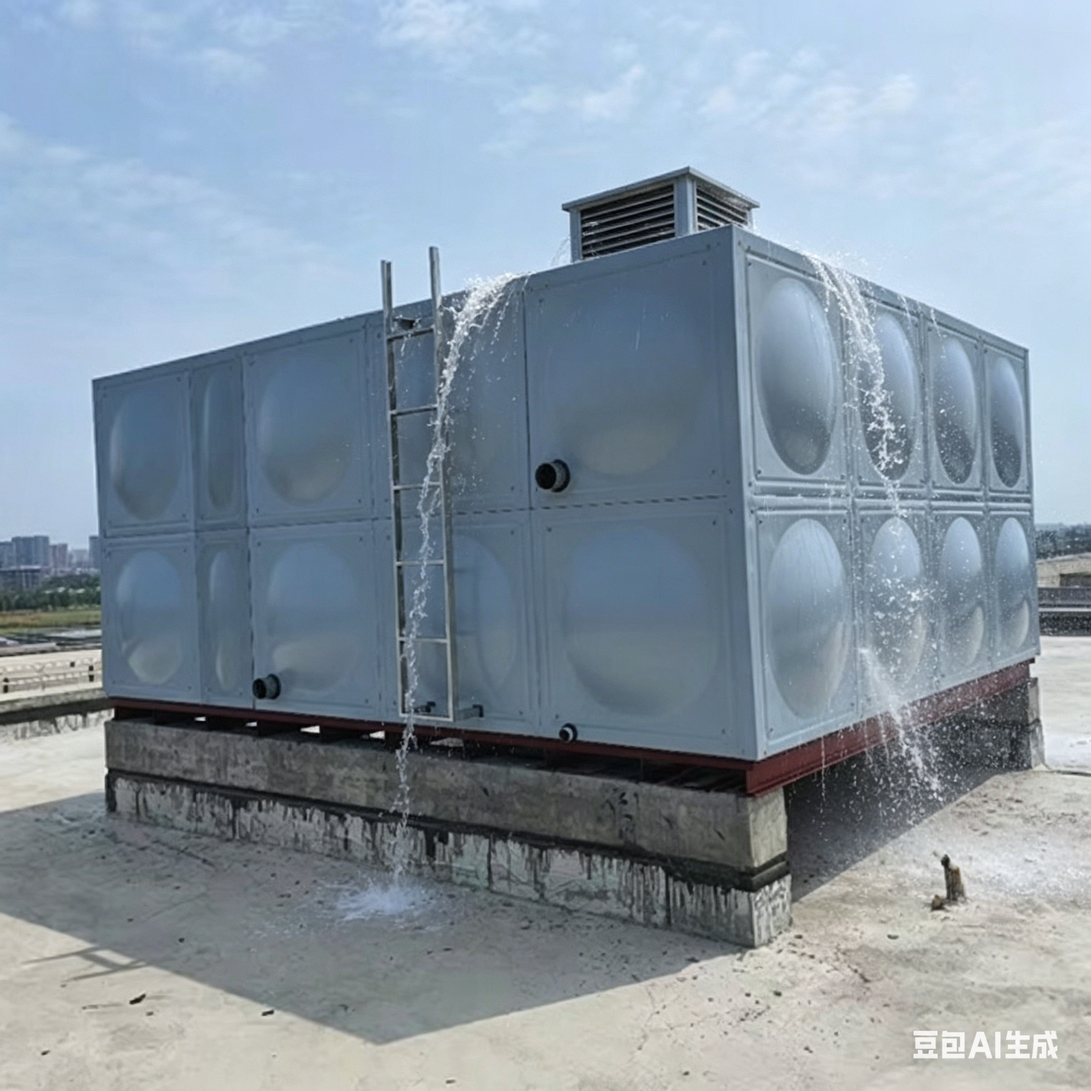Leakage: (357, 281, 515, 925)
